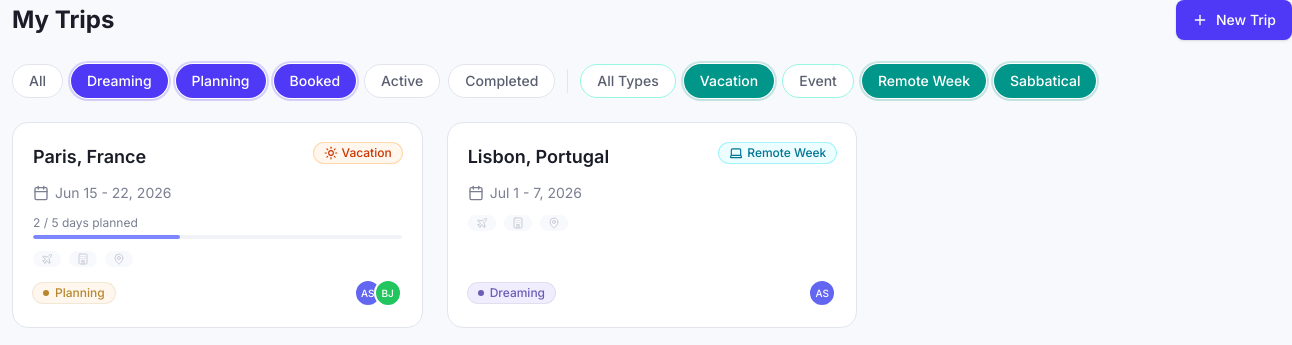
Test: TripsPage › clicking All shows all trips regardless of default filters
The image size is (1292, 345).
Check: the heading "Paris, France" is shown, box [33, 143, 146, 171]
Check: the text "Tokyo, Japan" is not shown
Click the button "All" at (38, 81), box [12, 64, 63, 98]
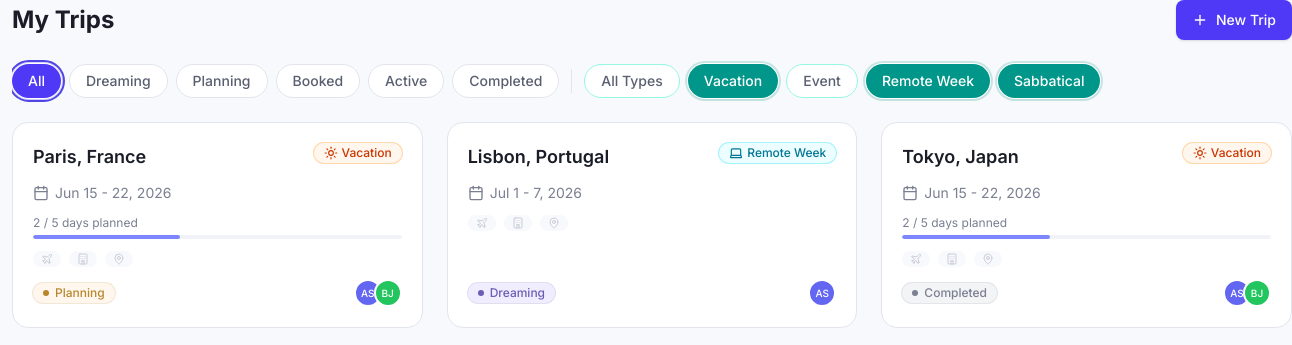
Check: the heading "Tokyo, Japan" is shown, box [902, 143, 1019, 171]
